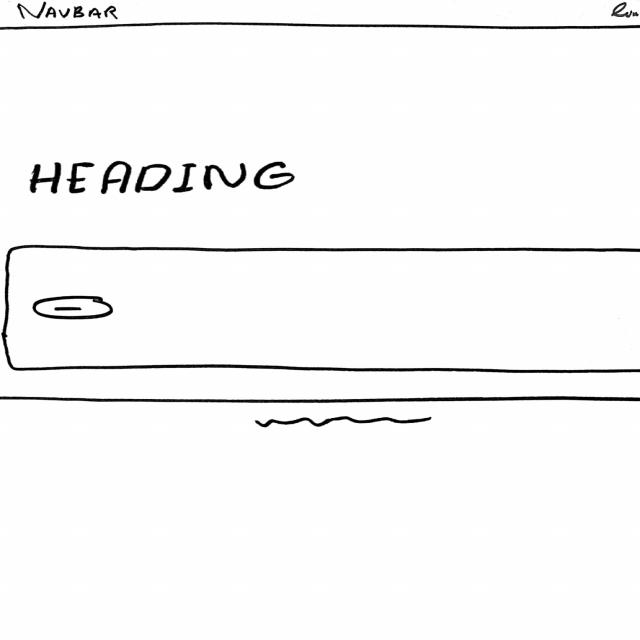container: (3, 244, 640, 375), (1, 1, 640, 34)
icon-button: (34, 297, 118, 323)
label: (26, 158, 304, 198), (13, 1, 123, 20), (610, 1, 640, 21)
text: (251, 415, 438, 430)
